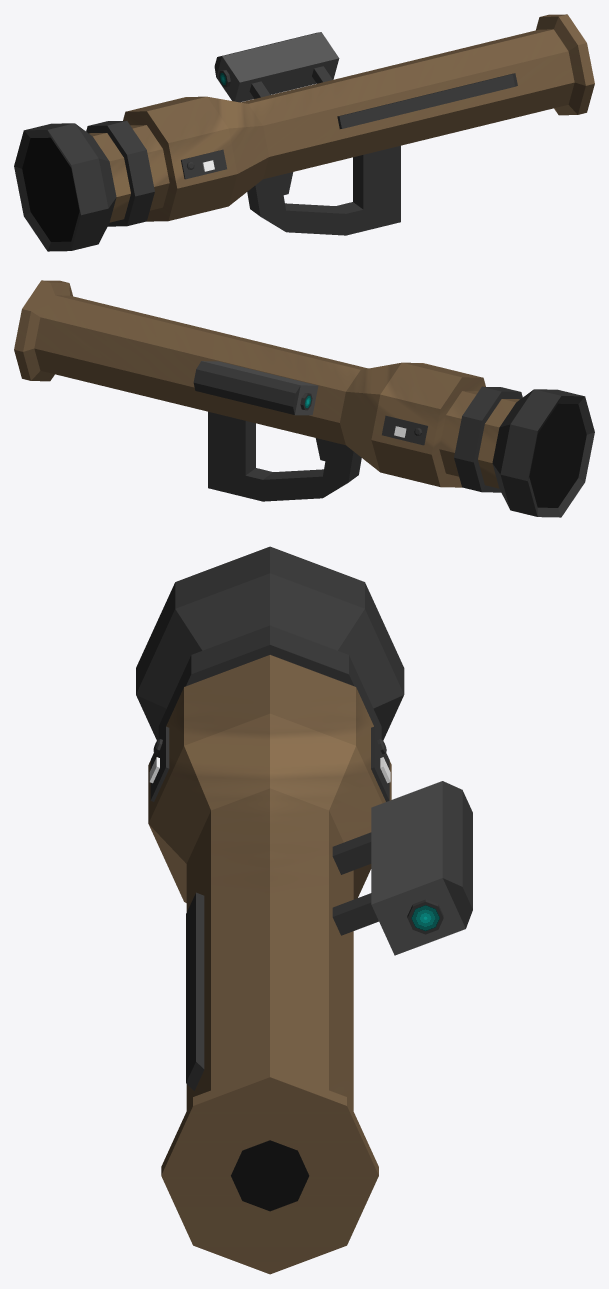
Rendered from Rocket_Launcher_V3.FBX.
3 renders of one model, top to bottom at view 1: azimuth 30°, elevation 25°; view 2: azimuth 150°, elevation 25°; view 3: azimuth 270°, elevation 25°, orthographic. The views are drawn at different scales.
Parts seen in each view (by area): view 1: Rocket_Launcher_V3; view 2: Rocket_Launcher_V3; view 3: Rocket_Launcher_V3.
Part boxes in pixels (bbox=[...]): Rocket_Launcher_V3: bbox=[14, 14, 594, 251]; Rocket_Launcher_V3: bbox=[14, 280, 594, 517]; Rocket_Launcher_V3: bbox=[136, 546, 472, 1274].
Size of the model in its own units: 461 by 147 by 129.
